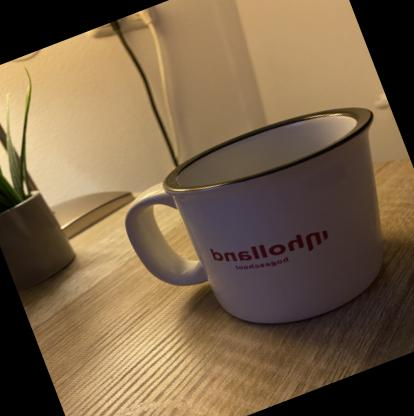Cup: (101, 82, 414, 375)
